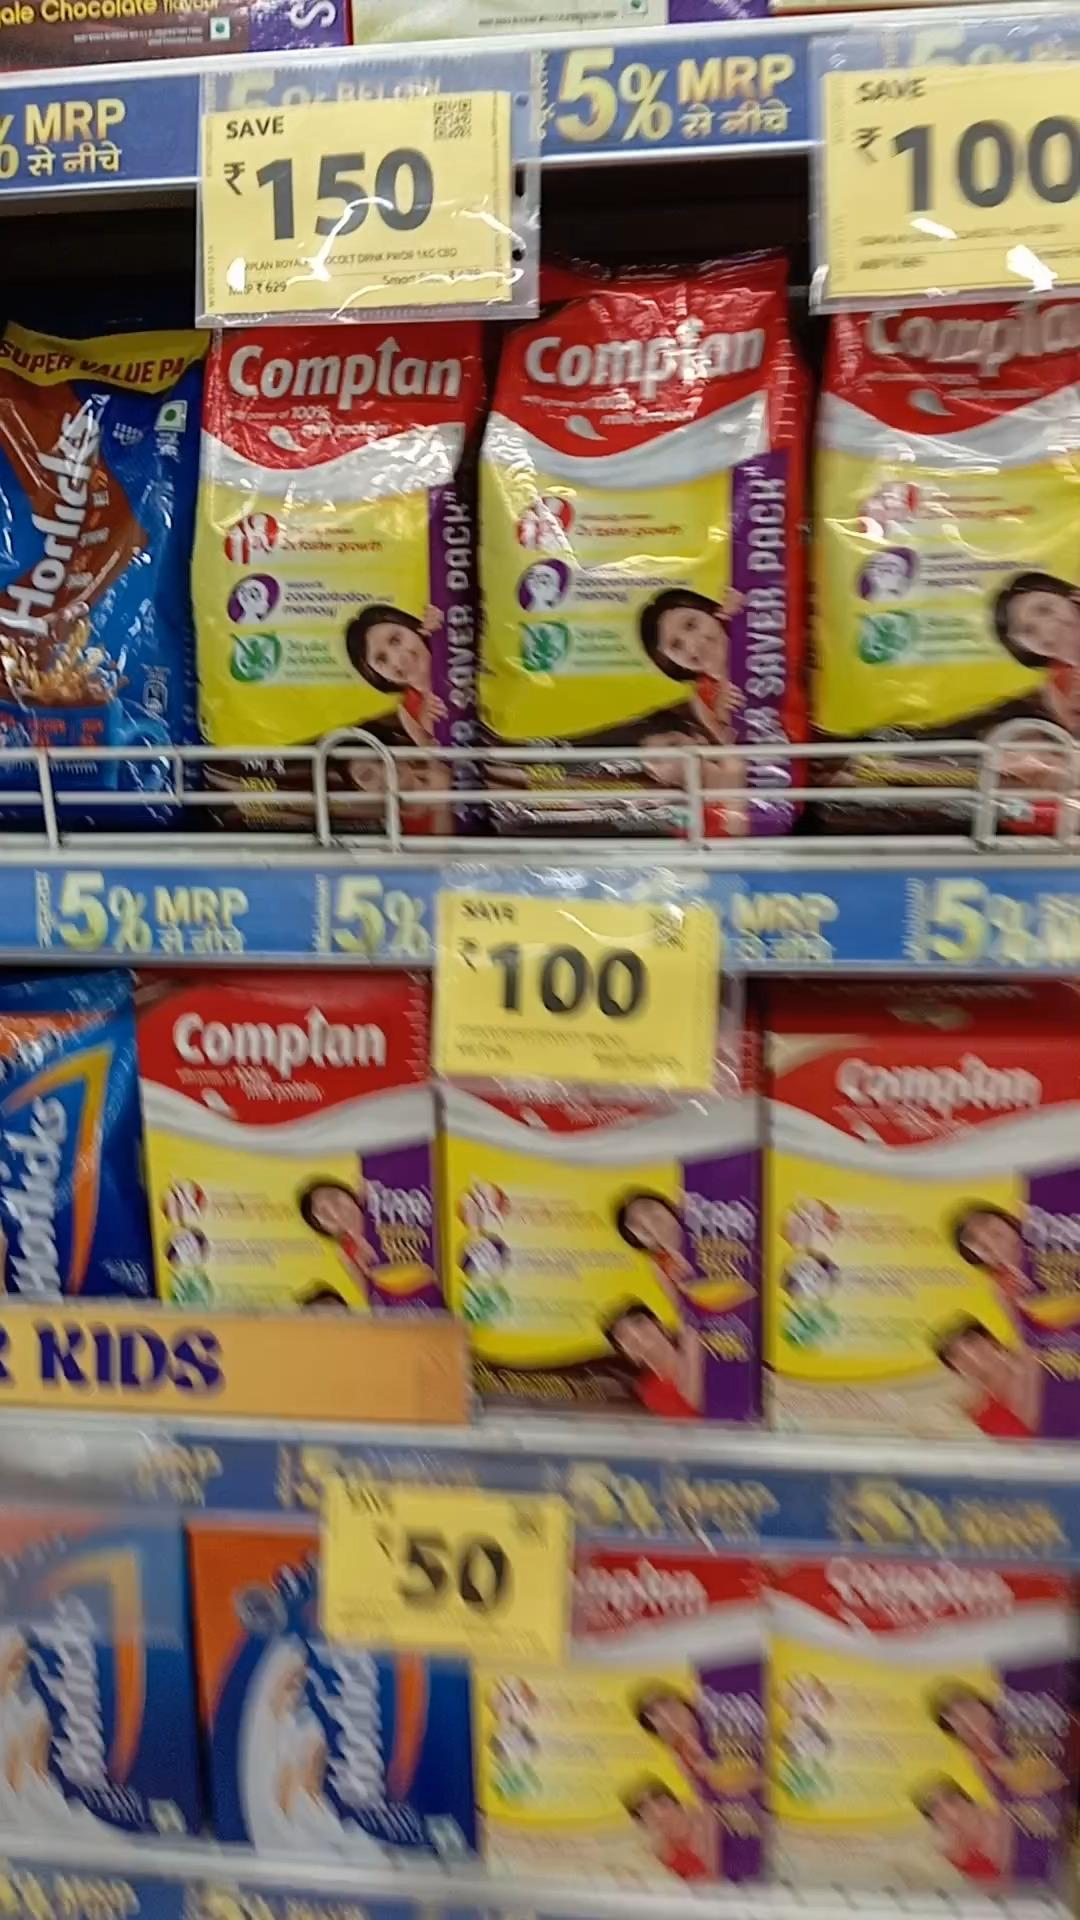COMPLAN_CHOCOLATE_500_GMS_PACK: (435, 1097, 758, 1424), (156, 965, 429, 1332)
COMPLAN_KESAR_BADAM_500_GMS_PACK: (773, 1026, 1080, 1460), (485, 1542, 765, 1891), (777, 1559, 1054, 1900)
COMPLAN_RC_POUCH_700_GMS_12: (468, 266, 810, 836), (808, 301, 1080, 833), (203, 323, 458, 839)
HORLICK_CHOCOLATE_750_G_POUCH: (0, 310, 193, 824)
HORLICK_CLASSIC_MALT_500_G_PACK: (204, 1540, 480, 1882)
